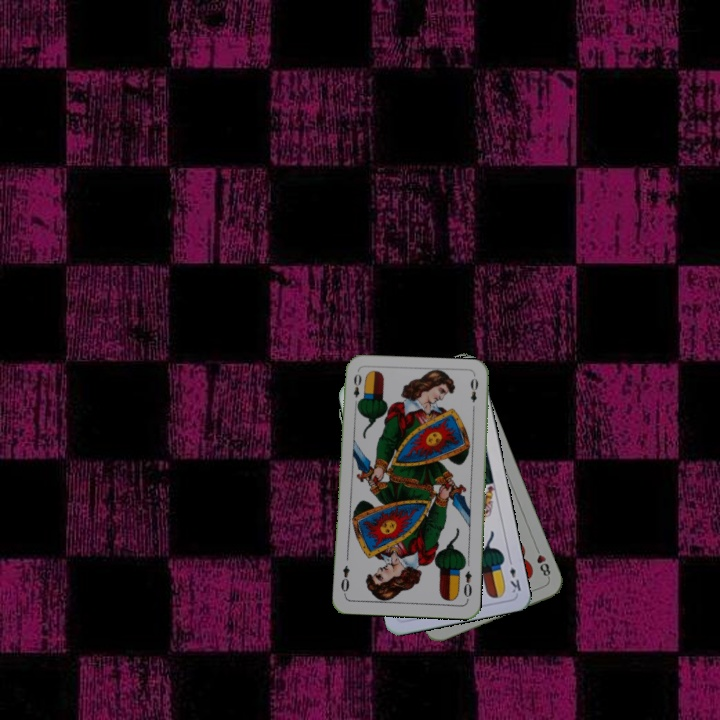EK: (504, 554, 523, 595)
EO: (349, 370, 364, 409), (459, 567, 474, 603)
H8: (531, 542, 553, 581)
